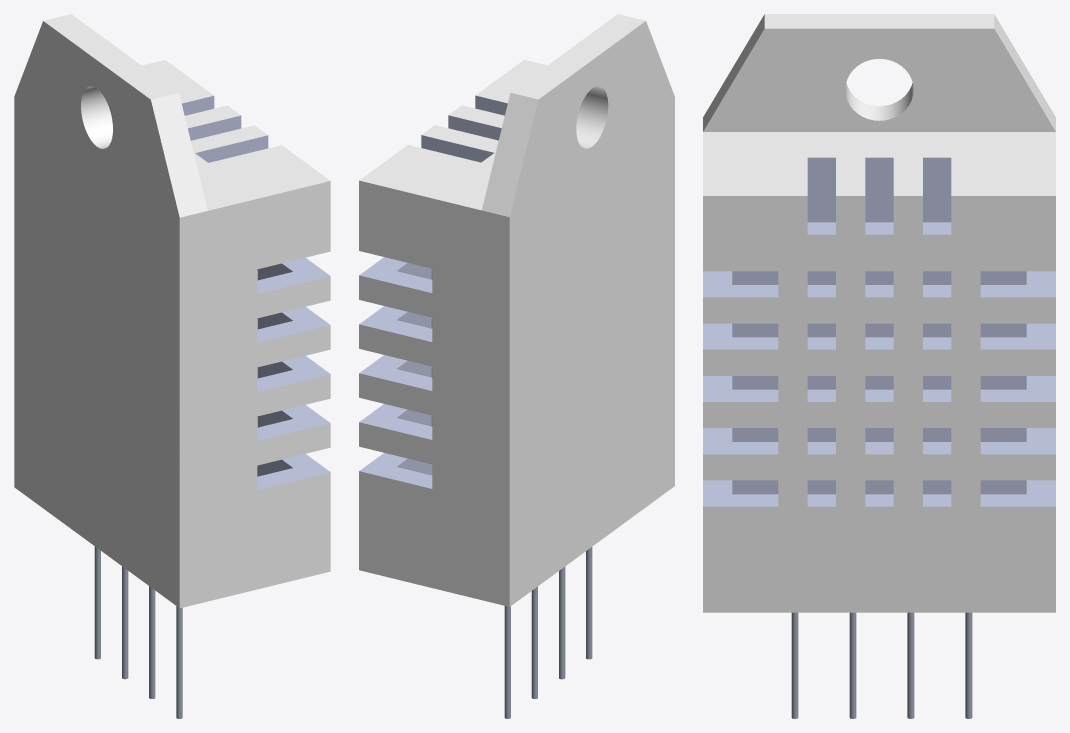
File: DHT22.fbx
3 renders of one model, left to right at view 1: azimuth 30°, elevation 25°; view 2: azimuth 150°, elevation 25°; view 3: azimuth 270°, elevation 25°, orthographic. The views are drawn at different scales.
Visible parts, largest first — view 1: DHT22; view 2: DHT22; view 3: DHT22.
Part boxes in pixels (box(x1,y1,x2,y2)): DHT22: box(14, 14, 330, 718); DHT22: box(359, 14, 674, 718); DHT22: box(703, 14, 1055, 718).
Size of the model in its own units: 0.815 by 3.29 by 1.55.
